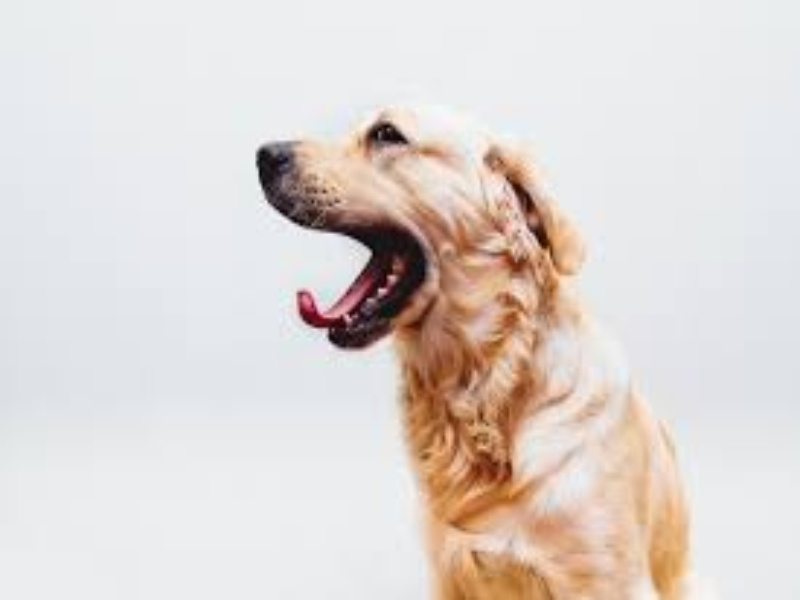dog: (245, 80, 702, 600)
